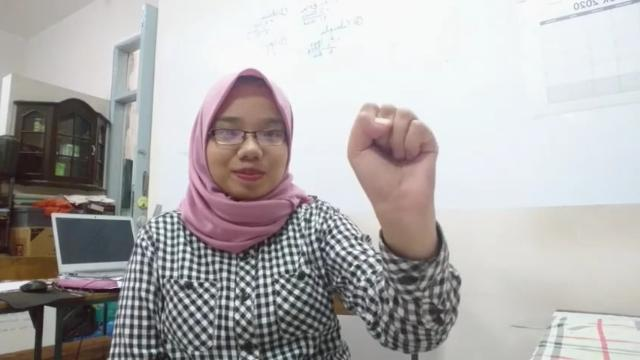S: (340, 98, 446, 212)
